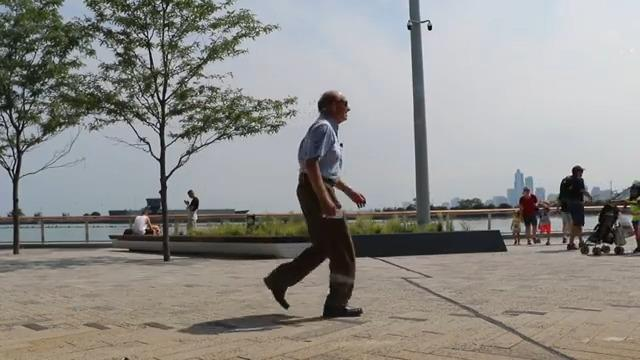no-helmet: (317, 89, 351, 124)
